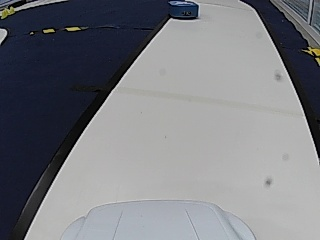prop: (169, 1, 198, 19)
